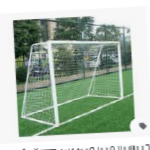goals: (20, 39, 125, 126)
